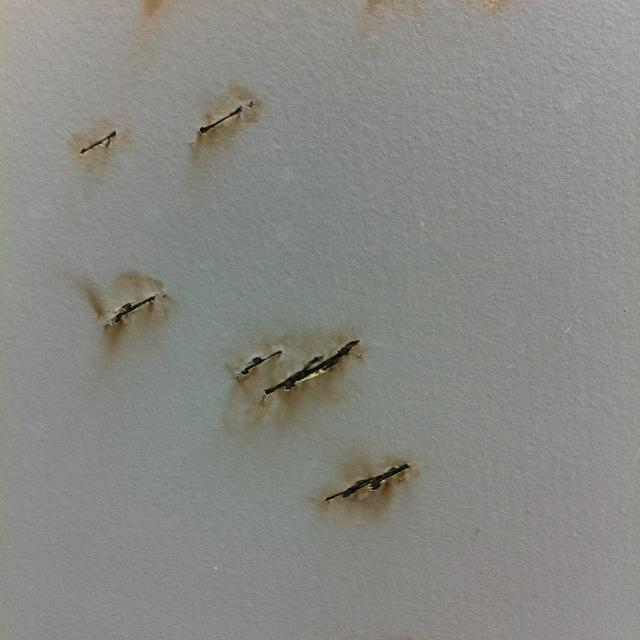Rupture: (267, 339, 362, 395), (323, 461, 420, 501), (106, 294, 164, 324), (198, 102, 247, 137), (235, 351, 285, 380), (79, 130, 123, 158)
